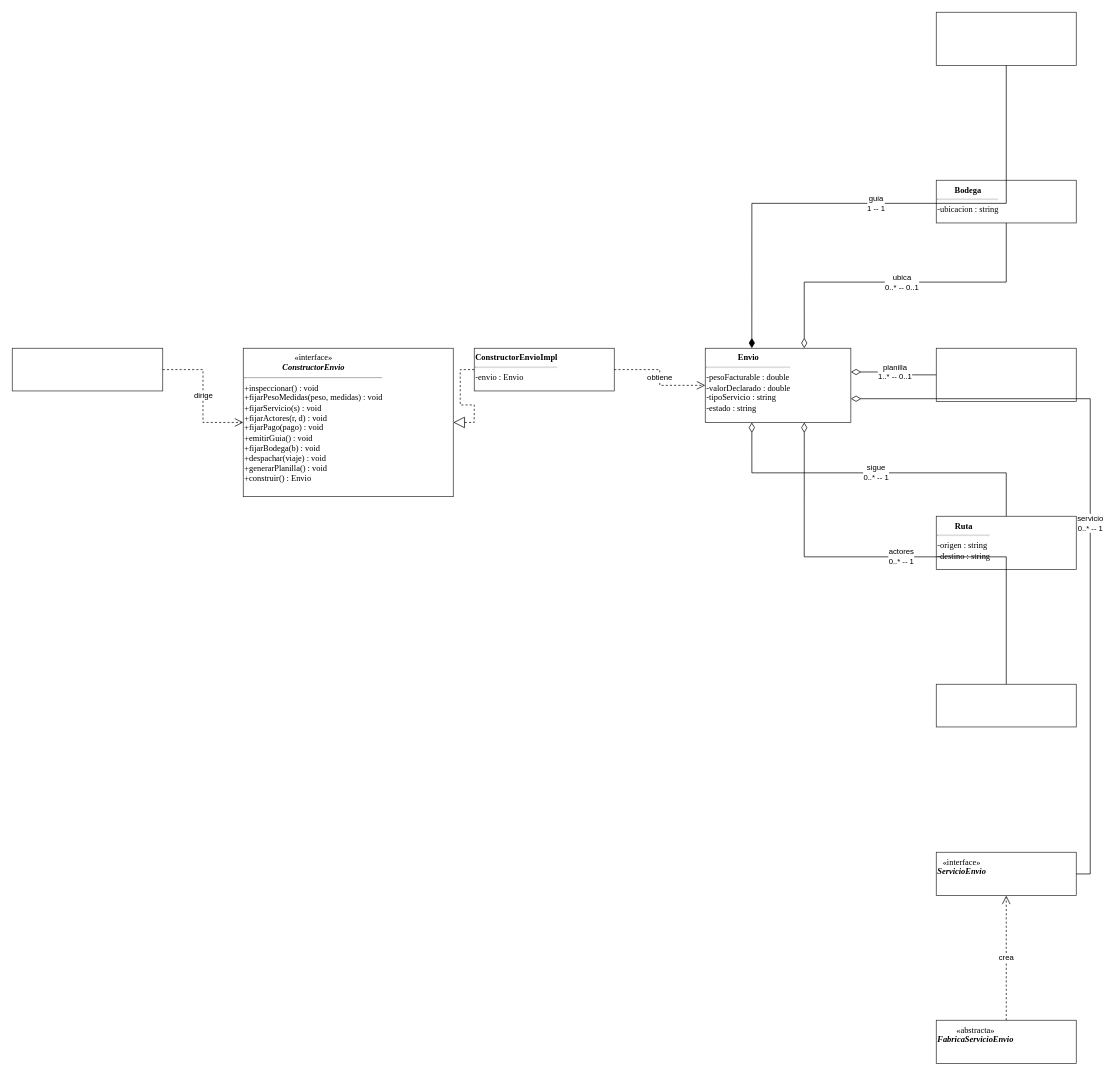
This 1115x1076 diagram has some shape labels left out. Each missing label, with the box of its shape:
AuxiliarEncomiendas +registrarEnvio() : Envio: (12, 348, 163, 391)
Cliente -documento : string: (936, 684, 1076, 727)
Guia -numero : string -codigoBarras : string: (936, 12, 1076, 65)
PlanillaCarga -conductor : string -firma : bool: (936, 348, 1076, 401)
